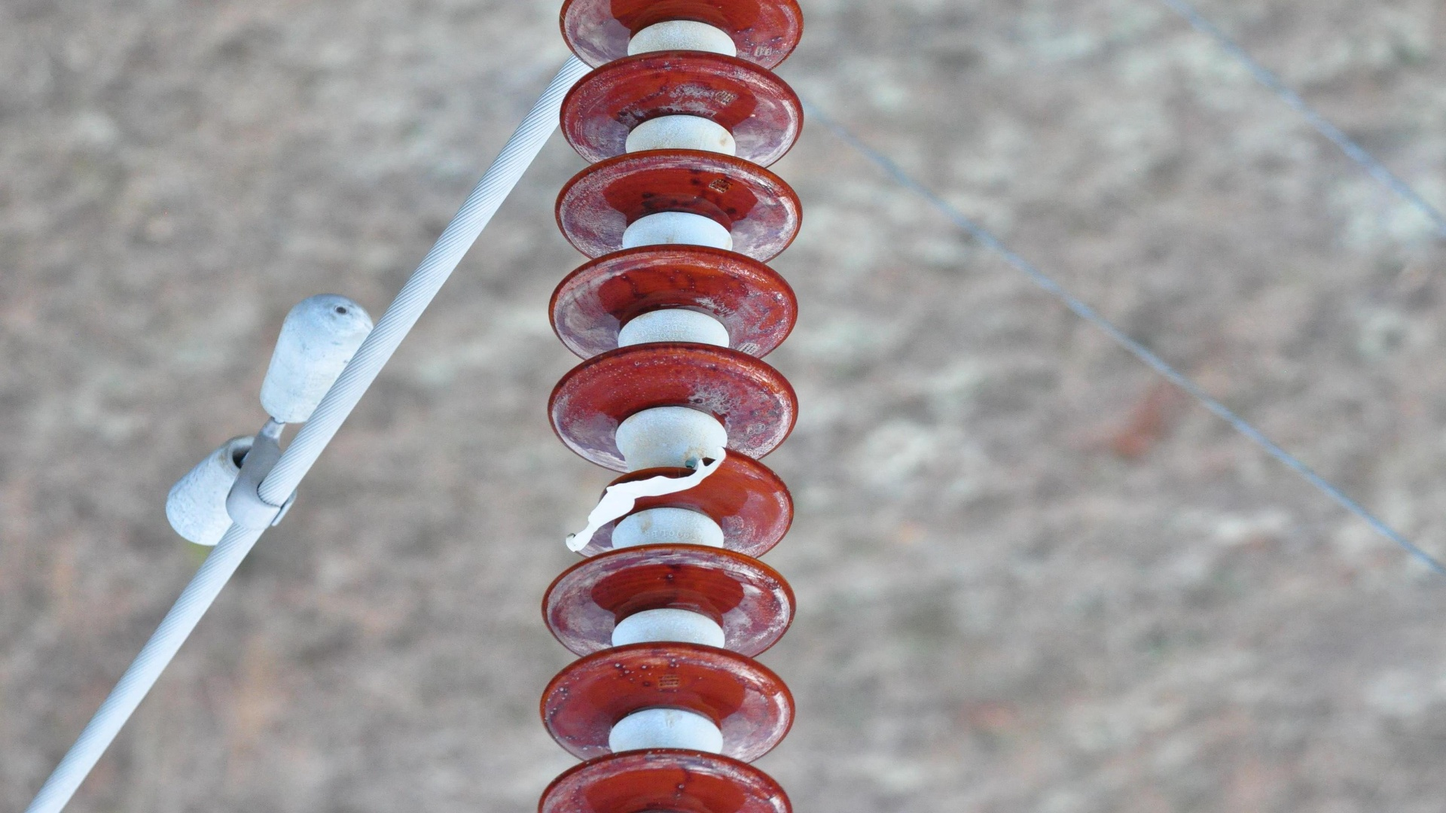insulator: (527, 1, 813, 813)
insulator_breakage: (561, 443, 731, 556)
